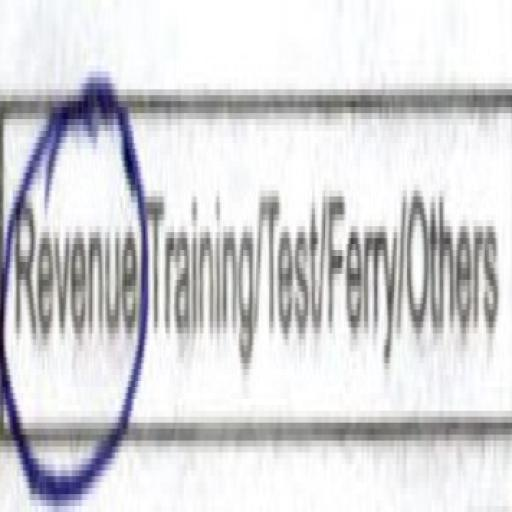check: (0, 36, 150, 512)
